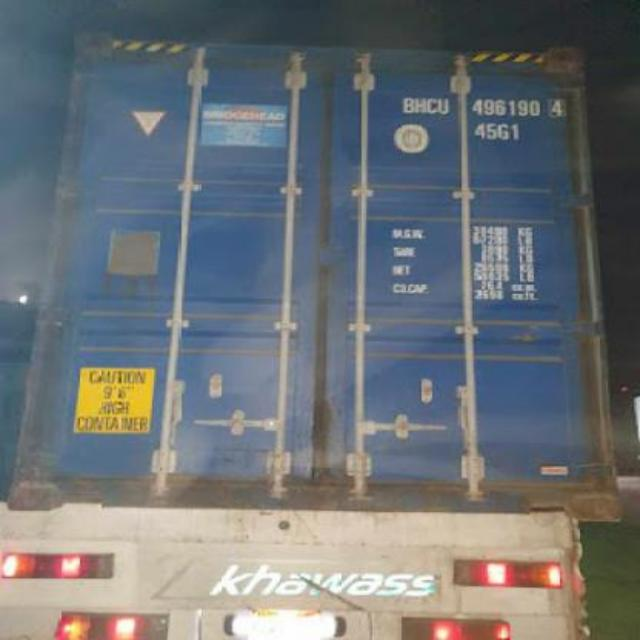0: (528, 99, 540, 117)
1: (504, 97, 516, 115)
4: (470, 95, 482, 116), (550, 100, 564, 118)
6: (496, 97, 506, 117)
9: (482, 97, 496, 117), (518, 97, 530, 117)
B: (402, 94, 414, 114)
C: (426, 97, 438, 115)
H: (414, 95, 428, 115)
U: (440, 97, 450, 115)
